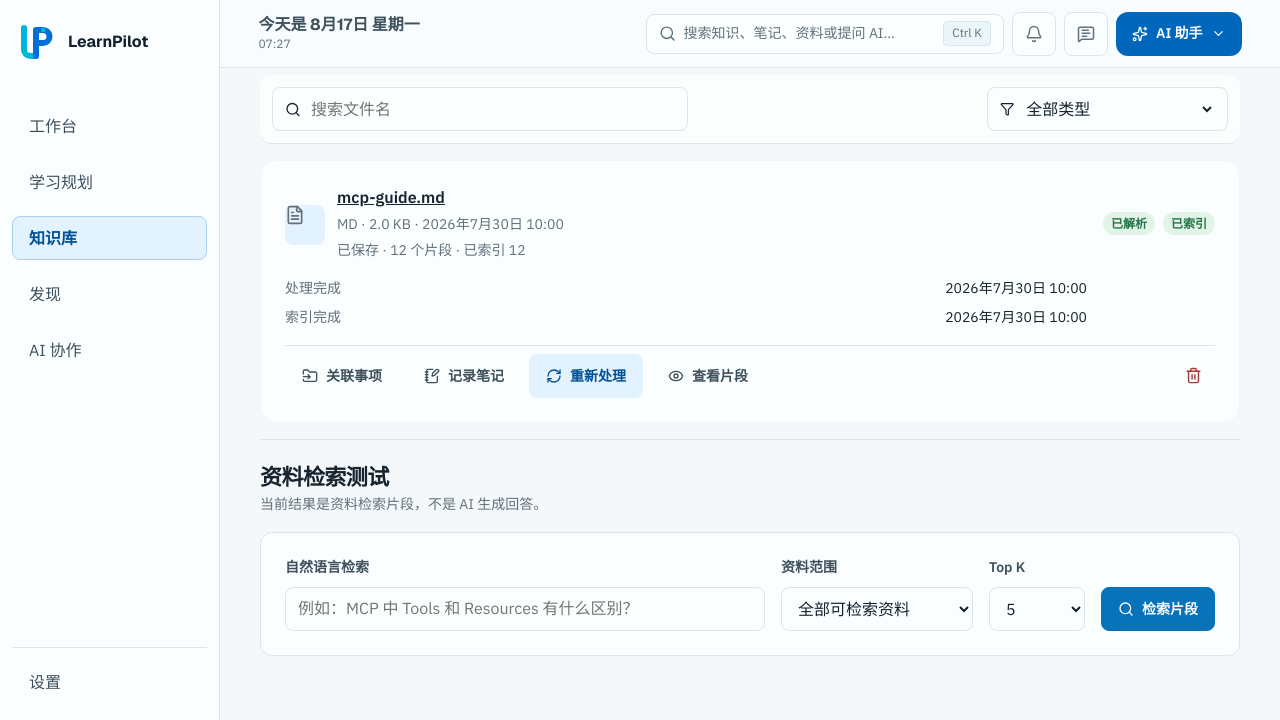
Test: 资料知识库 V2 › 分页查看片段并明确展示来源
(page scrolled)
Click the button "查看片段". click: (708, 376)
box: [651,354,765,398]
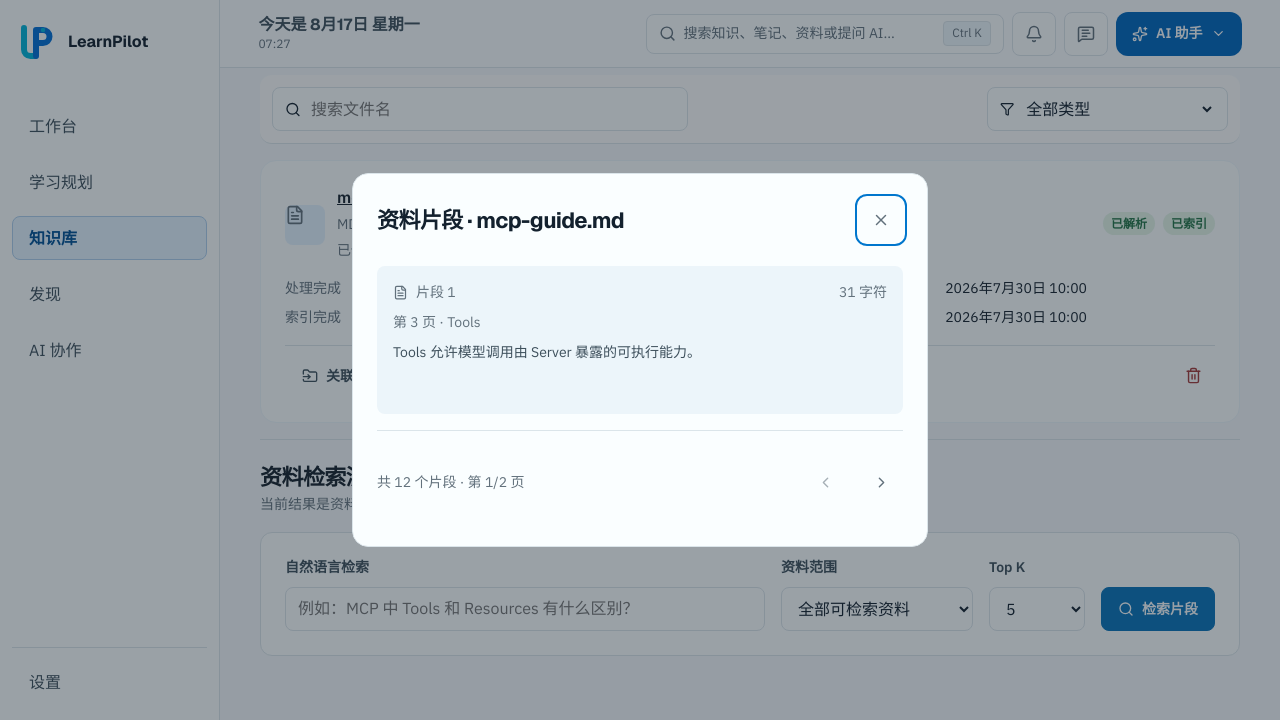
Check: the text "第 3 页 · Tools" is shown, box [393,313,481,331]
Check: the text "Tools 允许模型调用由 Server 暴露的可执行能力。" is shown, box [393,343,701,361]
Check: the text "共 12 个片段 · 第 1/2 页" is shown, box [377,472,524,494]
